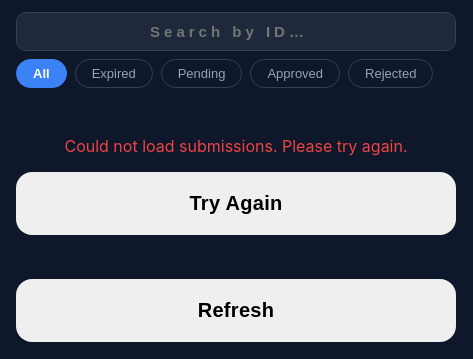
it: MySubmissions › reloads when Try Again is clicked after error
What coordinates should you click on to do the following:
click the button "Try Again"
I would click on:
 (236, 204)
Its box is [16, 172, 456, 235].
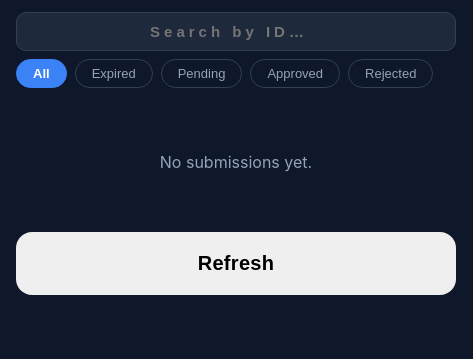
expect the text "No submissions yet." is shown: met, box [160, 152, 312, 172]
